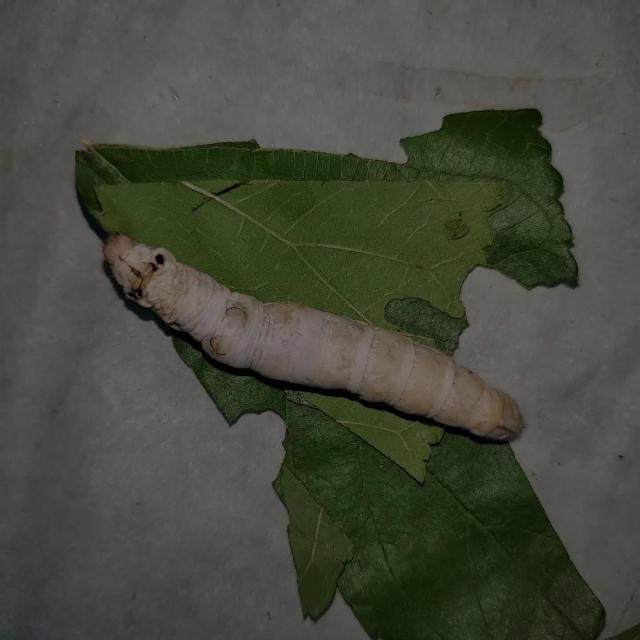Grasserie: (97, 219, 542, 468)
